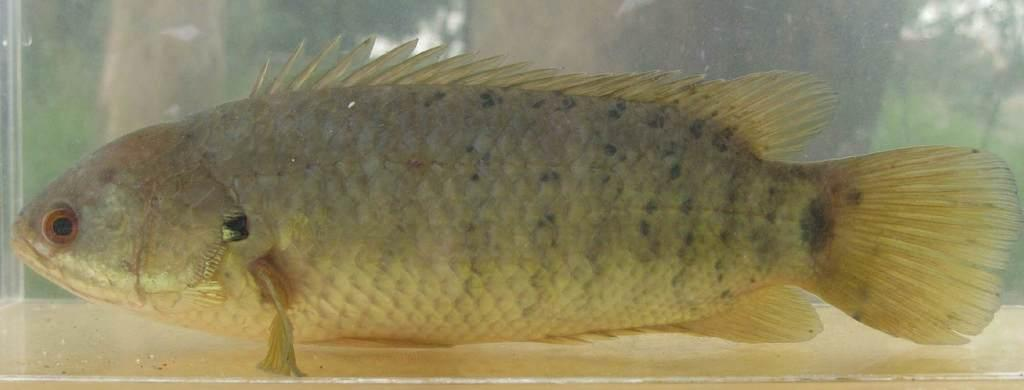Climbing Perch: (12, 29, 1024, 350)
